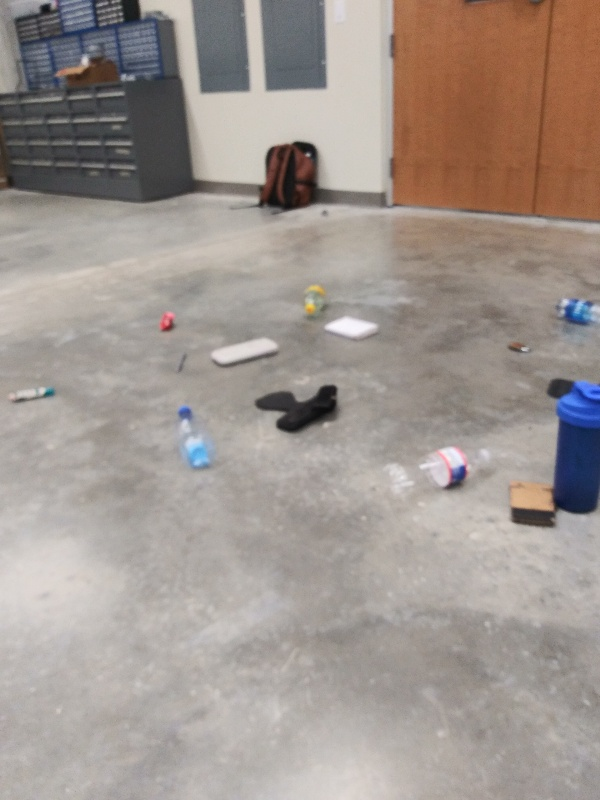bottle: (378, 444, 498, 506), (173, 401, 217, 478), (547, 292, 600, 331), (299, 278, 330, 320)
